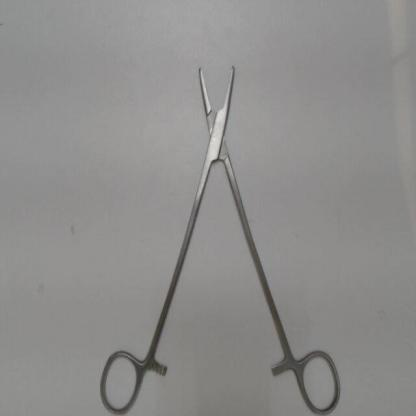8 Mayo Needle Holder: (94, 53, 345, 416)
